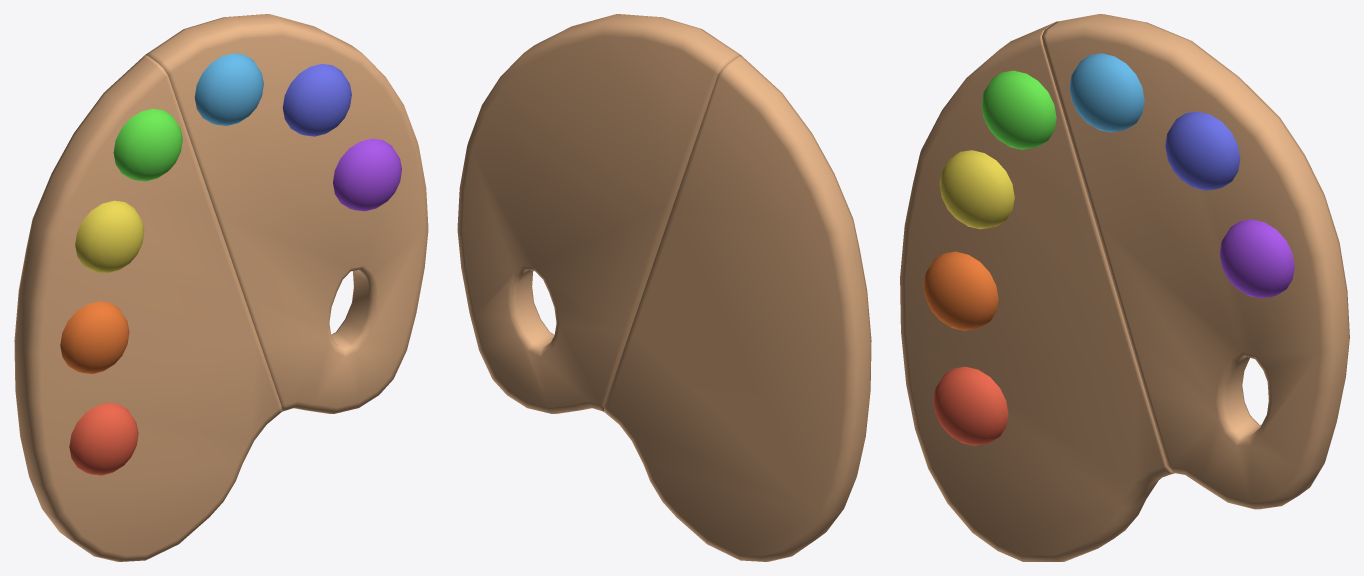
File: SM_Palette_01a.fbx
3 views of the same model, side by side, from view 1: azimuth 30°, elevation 25°; view 2: azimuth 150°, elevation 25°; view 3: azimuth 330°, elevation 25° (orthographic). The views are drawn at different scales.
Visible parts, largest first — view 1: Palette_02, Palette_01; view 2: Palette_02, Palette_01; view 3: Palette_01, Palette_02.
Part boxes in pixels (box(x1,y1,x2,y2)): Palette_02: box(14, 55, 281, 561); Palette_01: box(145, 14, 428, 413); Palette_02: box(604, 55, 871, 561); Palette_01: box(457, 14, 740, 413); Palette_01: box(1042, 14, 1349, 509); Palette_02: box(900, 22, 1174, 561).
Bounding box in the file's own units: 24.83 × 30.28 × 3.74.
